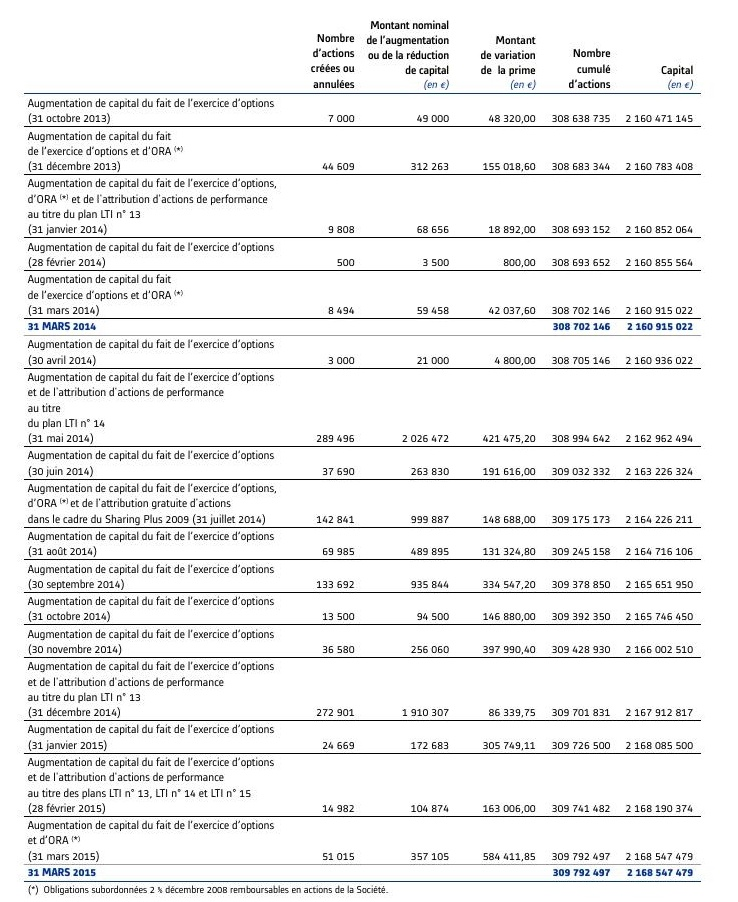table: (0, 0, 738, 902)
